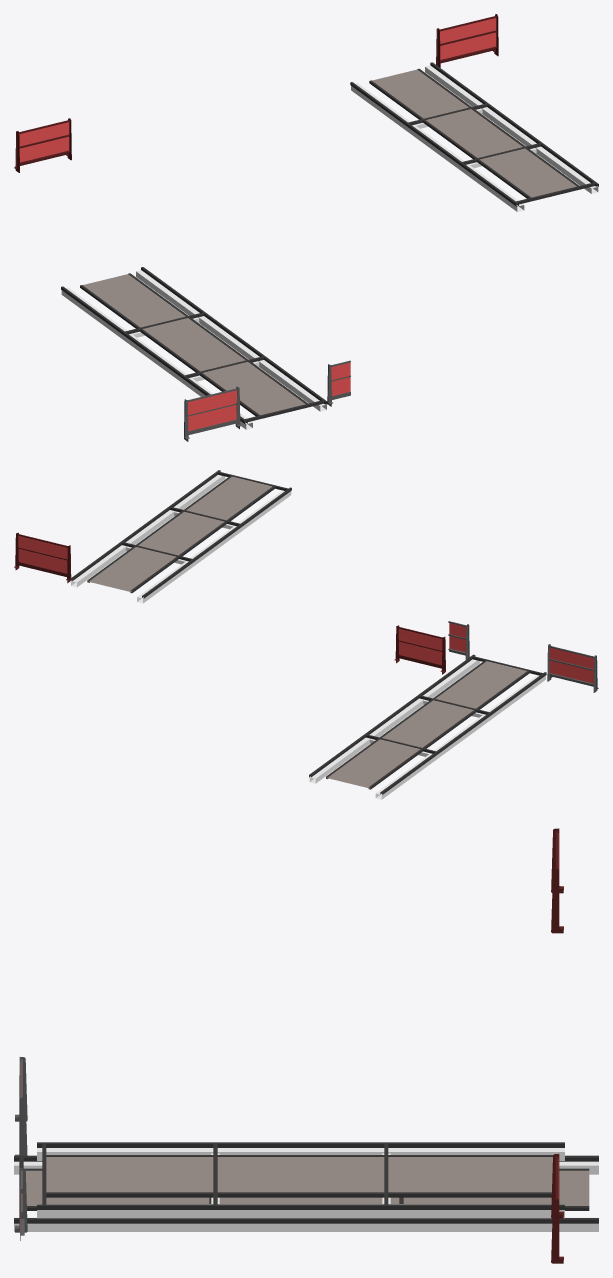
File: SM_H_Building_Tide_Jail_A_03k_ATLAS.fbx
The picture shows the model from 3 angles, top to bottom: view 1: azimuth 30°, elevation 25°; view 2: azimuth 150°, elevation 25°; view 3: azimuth 270°, elevation 25°; orthographic projection. The views are drawn at different scales.
Parts seen in each view (by area): view 1: SM_H_Building_Tide_Jail_A_03k_ATLAS; view 2: SM_H_Building_Tide_Jail_A_03k_ATLAS; view 3: SM_H_Building_Tide_Jail_A_03k_ATLAS.
Part boxes in pixels (bbox=[...]): SM_H_Building_Tide_Jail_A_03k_ATLAS: bbox=[14, 14, 598, 441]; SM_H_Building_Tide_Jail_A_03k_ATLAS: bbox=[14, 470, 598, 799]; SM_H_Building_Tide_Jail_A_03k_ATLAS: bbox=[14, 828, 598, 1263].
Bounding box in the file's own units: 1854 × 1225 × 685.
